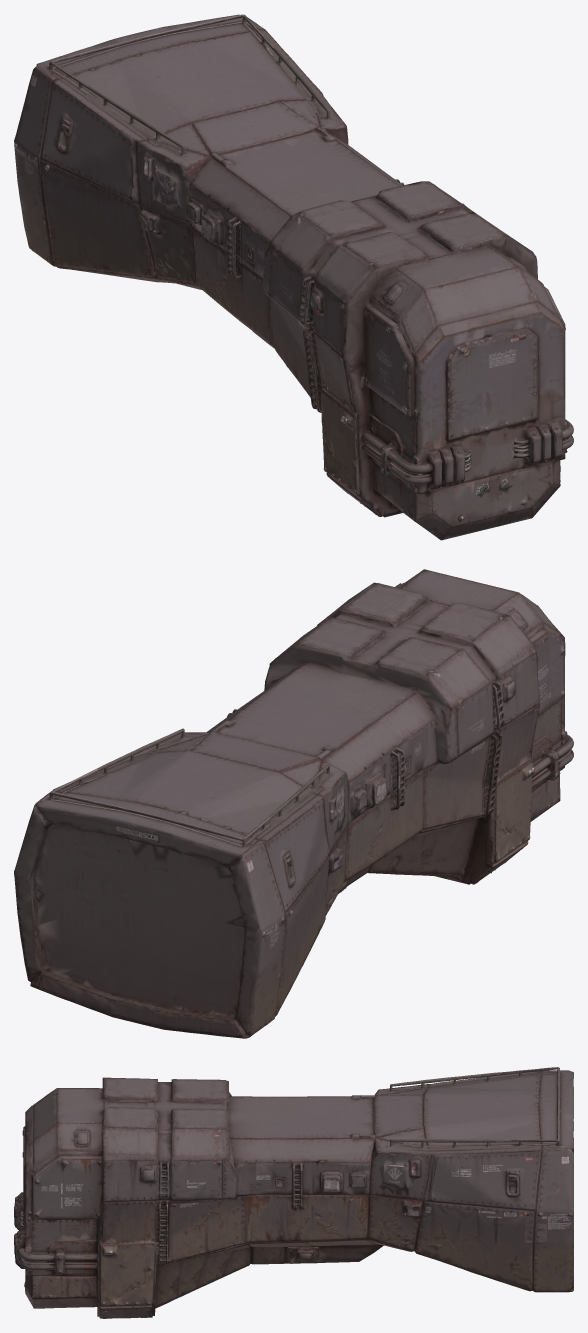
The model's file is spacecraft_hull_3d_model.fbx.
3 renders of one model, top to bottom at view 1: azimuth 30°, elevation 25°; view 2: azimuth 150°, elevation 25°; view 3: azimuth 270°, elevation 25°, orthographic. The views are drawn at different scales.
Visible parts, largest first — view 1: tripo_node_8533661e; view 2: tripo_node_8533661e; view 3: tripo_node_8533661e.
Part boxes in pixels (left/top/right/bottom): tripo_node_8533661e: left=14, top=14, right=573, bottom=540; tripo_node_8533661e: left=14, top=569, right=573, bottom=1038; tripo_node_8533661e: left=14, top=1067, right=573, bottom=1318.
Bounding box in the file's own units: 0.3897 × 0.3752 × 0.9798.
